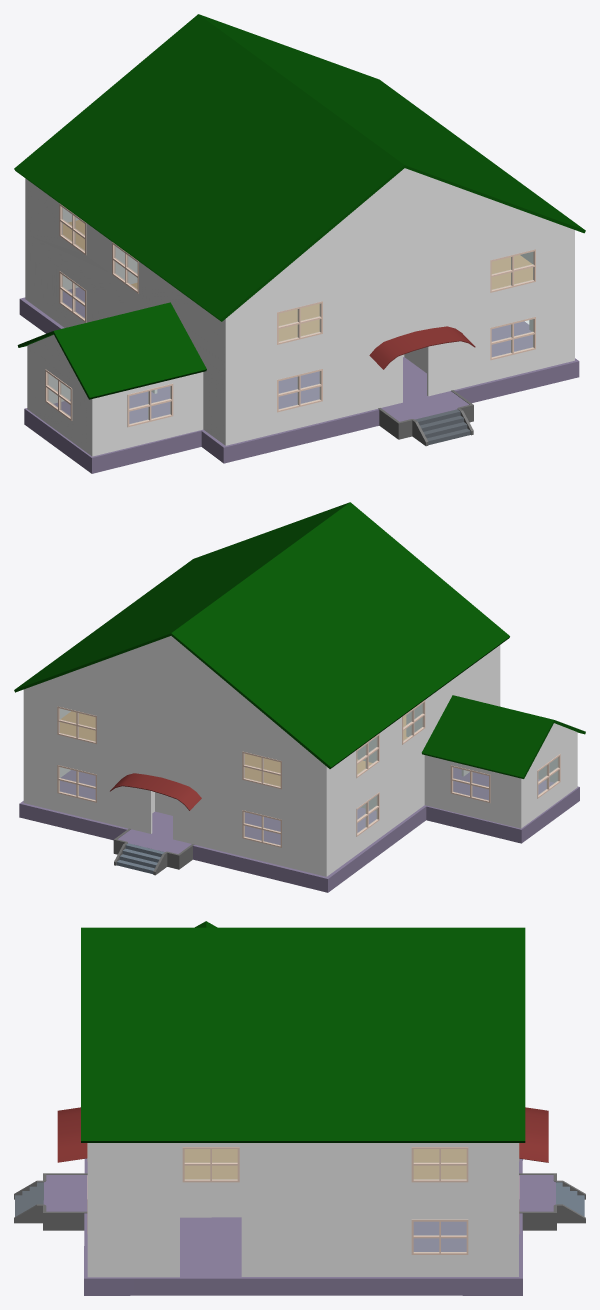
The model's file is Maison home LP.fbx.
3 renders of one model, top to bottom at view 1: azimuth 30°, elevation 25°; view 2: azimuth 150°, elevation 25°; view 3: azimuth 270°, elevation 25°, orthographic. The views are drawn at different scales.
Visible parts, largest first — view 1: Roof_1, Walls_Home_ST1.001, RoofWall.005, Floor.001, Window, ceiling.003, Roof.002, Ladder.004, WallLadder.008; view 2: Roof_1, Walls_Home_ST1.001, RoofWall.005, Floor.001, Window, ceiling.003, Roof.002, Ladder.003, WallLadder.008; view 3: Roof_1, Walls_Home_ST1.001, Floor.001, Window, ceiling.003, WallLadder.008, Roof.002, Ladder.004, Ladder.003.
Part boxes in pixels (left/top/right/bottom): Roof_1: left=14, top=14, right=585, bottom=399; Walls_Home_ST1.001: left=25, top=178, right=574, bottom=456; RoofWall.005: left=28, top=168, right=572, bottom=382; Floor.001: left=19, top=287, right=579, bottom=473; Window: left=45, top=203, right=535, bottom=427; ceiling.003: left=63, top=220, right=532, bottom=341; Roof.002: left=369, top=326, right=475, bottom=369; Ladder.004: left=415, top=409, right=470, bottom=445; WallLadder.008: left=378, top=390, right=473, bottom=446; Roof_1: left=14, top=502, right=585, bottom=778; Walls_Home_ST1.001: left=23, top=645, right=577, bottom=876; RoofWall.005: left=26, top=636, right=576, bottom=764; Floor.001: left=19, top=767, right=579, bottom=892; Window: left=57, top=700, right=560, bottom=847; ceiling.003: left=60, top=711, right=407, bottom=786; Roof.002: left=110, top=773, right=201, bottom=810; Ladder.003: left=116, top=843, right=164, bottom=873; WallLadder.008: left=113, top=828, right=194, bottom=875; Roof_1: left=81, top=921, right=525, bottom=1142; Walls_Home_ST1.001: left=87, top=1143, right=518, bottom=1277; Floor.001: left=43, top=1158, right=555, bottom=1295; Window: left=87, top=1143, right=519, bottom=1254; ceiling.003: left=184, top=1149, right=466, bottom=1179; WallLadder.008: left=14, top=1173, right=585, bottom=1230; Roof.002: left=57, top=1107, right=548, bottom=1162; Ladder.004: left=15, top=1182, right=43, bottom=1216; Ladder.003: left=556, top=1182, right=584, bottom=1216.
Size of the model in its own units: 3756 by 1937 by 3644.
